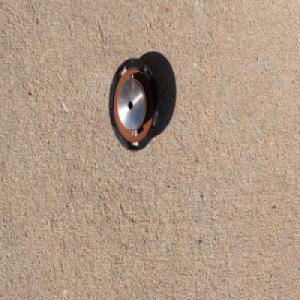FuelCap: (107, 55, 159, 154)
